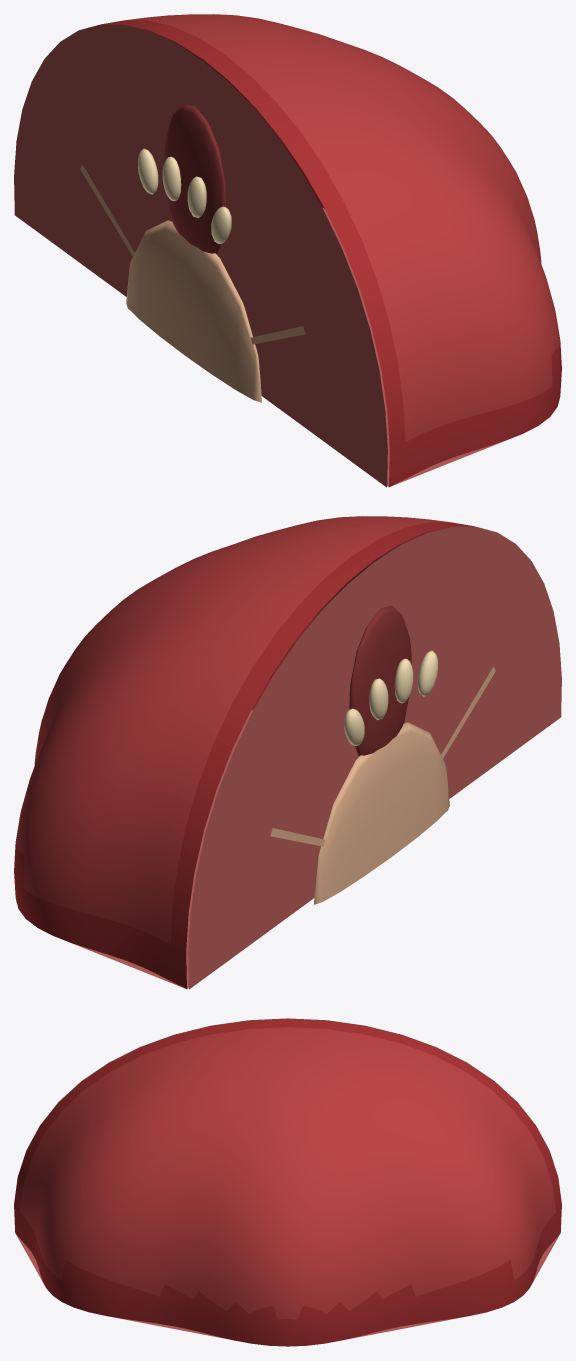
File: cocktail_wedge.glb
3 views of the same model, one above another, from view 1: azimuth 30°, elevation 25°; view 2: azimuth 150°, elevation 25°; view 3: azimuth 270°, elevation 25° (orthographic). The views are drawn at different scales.
Parts seen in each view (by area): view 1: Cocktail Cocktail rose-red satin skin / Cocktail subtle sunw, Cocktail Cocktail sweet rose-coral flesh, Cocktail Cocktail three-way pale pith / Cocktail sweet rose-, Cocktail Cocktail three deep gel locules, Cocktail Cocktail small ivory seeds, Cocktail Cocktail three-way pale pith; view 2: Cocktail Cocktail rose-red satin skin / Cocktail subtle sunw, Cocktail Cocktail sweet rose-coral flesh, Cocktail Cocktail three-way pale pith / Cocktail sweet rose-, Cocktail Cocktail three deep gel locules, Cocktail Cocktail small ivory seeds, Cocktail Cocktail three-way pale pith; view 3: Cocktail Cocktail rose-red satin skin / Cocktail subtle sunw, Cocktail Cocktail sweet rose-coral flesh.
Boxes of the visible parts, bbox=[...] form: Cocktail Cocktail rose-red satin skin / Cocktail subtle sunw: bbox=[101, 14, 561, 487]; Cocktail Cocktail sweet rose-coral flesh: bbox=[14, 24, 387, 487]; Cocktail Cocktail three-way pale pith / Cocktail sweet rose-: bbox=[126, 220, 261, 402]; Cocktail Cocktail three deep gel locules: bbox=[164, 104, 226, 254]; Cocktail Cocktail small ivory seeds: bbox=[138, 148, 231, 243]; Cocktail Cocktail three-way pale pith: bbox=[80, 164, 305, 344]; Cocktail Cocktail rose-red satin skin / Cocktail subtle sunw: bbox=[14, 516, 474, 989]; Cocktail Cocktail sweet rose-coral flesh: bbox=[188, 526, 561, 989]; Cocktail Cocktail three-way pale pith / Cocktail sweet rose-: bbox=[314, 722, 449, 904]; Cocktail Cocktail three deep gel locules: bbox=[349, 606, 411, 756]; Cocktail Cocktail small ivory seeds: bbox=[344, 650, 437, 745]; Cocktail Cocktail three-way pale pith: bbox=[270, 666, 495, 846]; Cocktail Cocktail rose-red satin skin / Cocktail subtle sunw: bbox=[14, 1019, 561, 1346]; Cocktail Cocktail sweet rose-coral flesh: bbox=[14, 1018, 561, 1203].
Bounding box in the file's own units: 0.5552 × 0.45 × 1.04.
